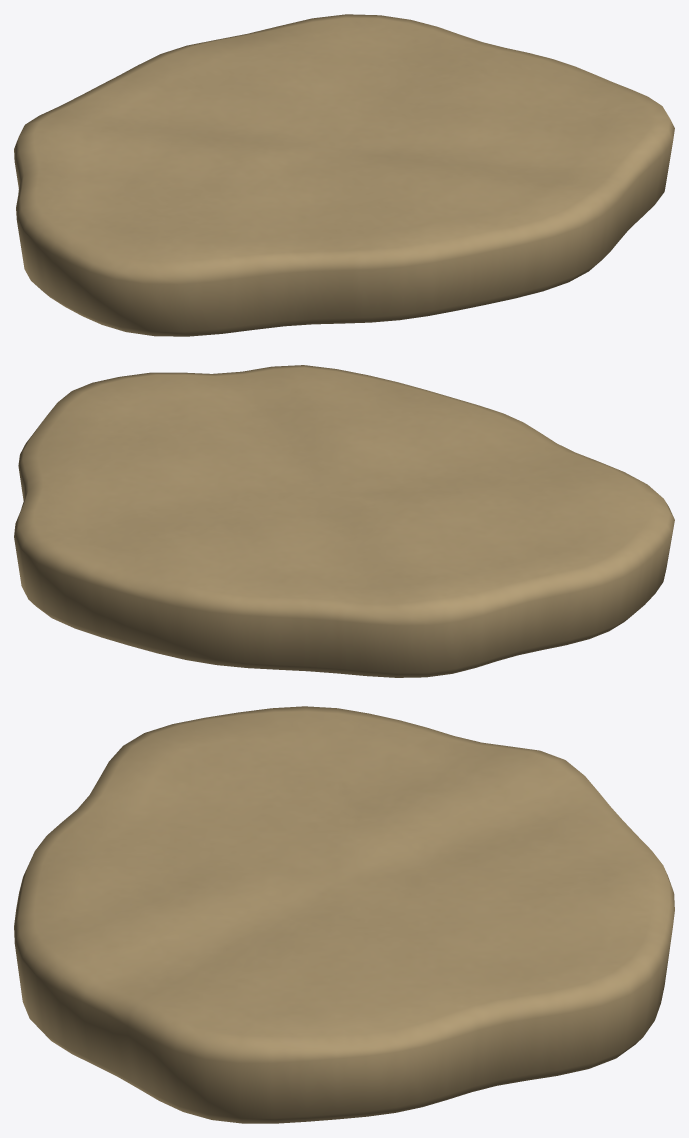
The model's file is SteppingStone_06.fbx.
3 views of the same model, one above another, from view 1: azimuth 30°, elevation 25°; view 2: azimuth 150°, elevation 25°; view 3: azimuth 270°, elevation 25° (orthographic). The views are drawn at different scales.
Visible parts, largest first — view 1: SteppingStone_06; view 2: SteppingStone_06; view 3: SteppingStone_06.
Part boxes in pixels (x1,y1,x2,y2): SteppingStone_06: [14, 14, 674, 336]; SteppingStone_06: [14, 365, 674, 677]; SteppingStone_06: [14, 706, 674, 1123].
Size of the model in its own units: 0.45 by 0.0535 by 0.363.
Materials: 1 (1 with a texture image).
